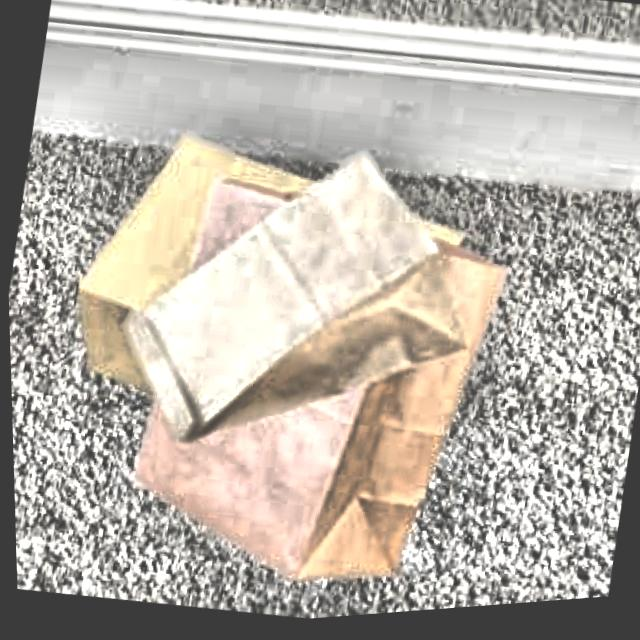Paper-bag: (98, 150, 519, 622), (58, 96, 484, 459), (107, 130, 447, 472)
